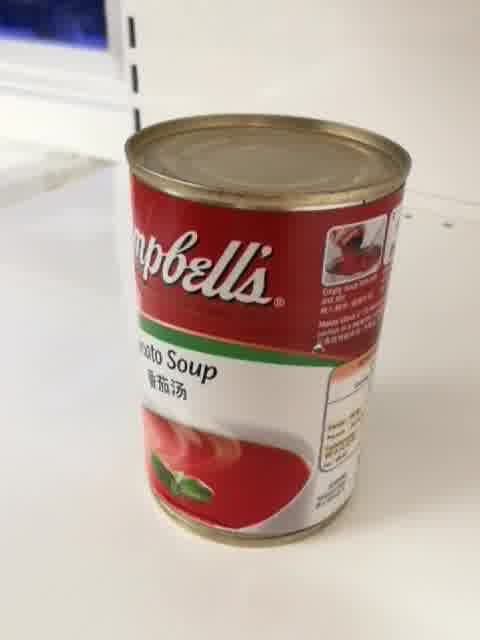tomatosoup: (120, 111, 413, 551)
